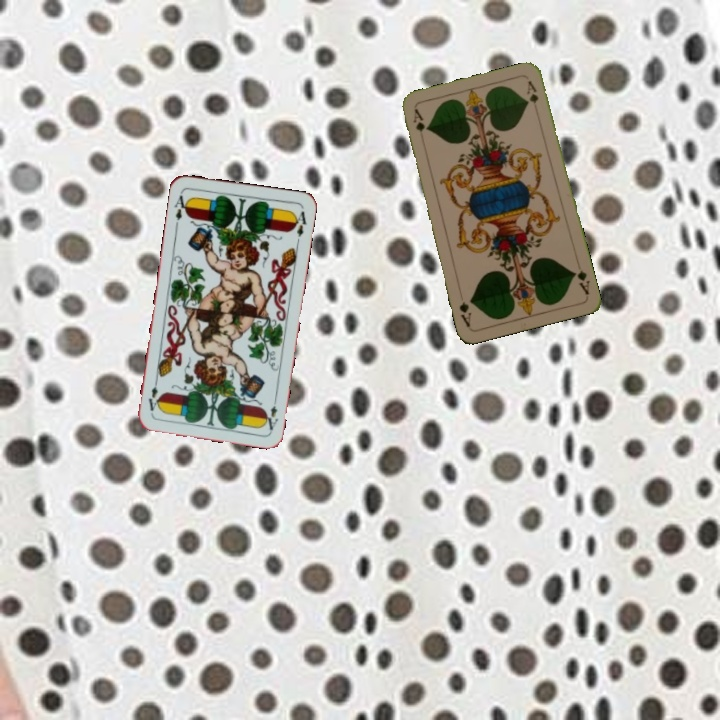EA: (261, 393, 281, 433), (170, 189, 191, 223)
GA: (409, 105, 427, 145), (569, 266, 592, 297)
